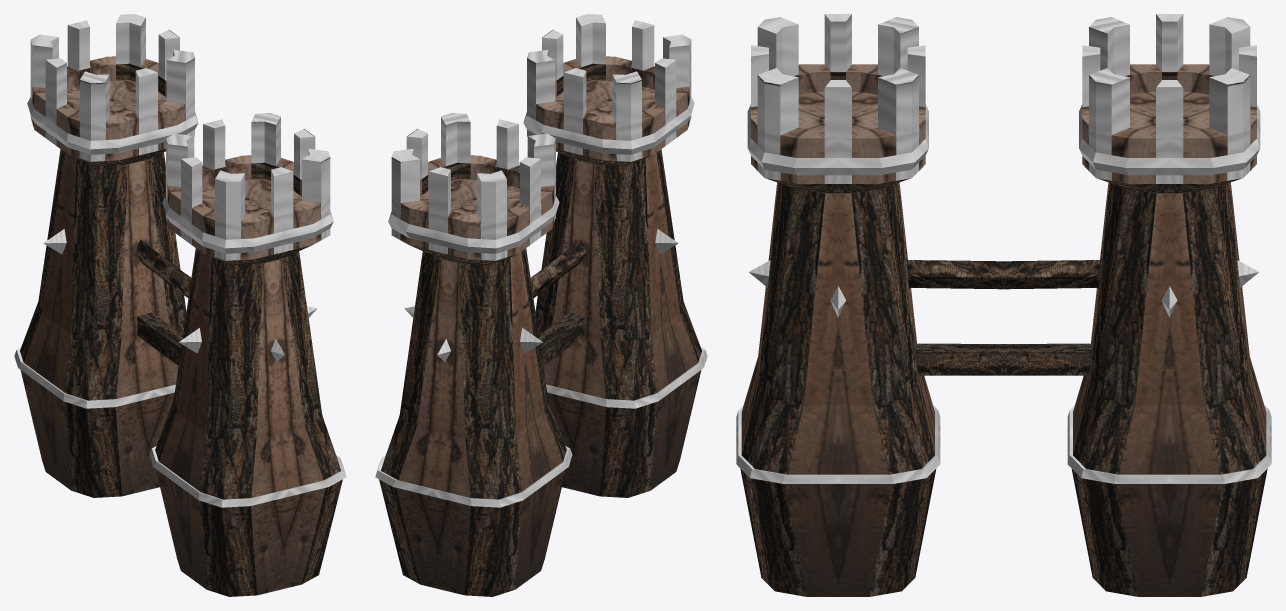
The model's file is toren_4.fbx.
3 renders of one model, left to right at view 1: azimuth 30°, elevation 25°; view 2: azimuth 150°, elevation 25°; view 3: azimuth 270°, elevation 25°, orthographic. The views are drawn at different scales.
Parts seen in each view (by area): view 1: Cube; view 2: Cube; view 3: Cube.
Boxes of the visible parts, bbox=[...] form: Cube: bbox=[14, 14, 346, 596]; Cube: bbox=[375, 14, 707, 596]; Cube: bbox=[736, 14, 1271, 596].
Bounding box in the file's own units: 551 × 1529 × 1444.
